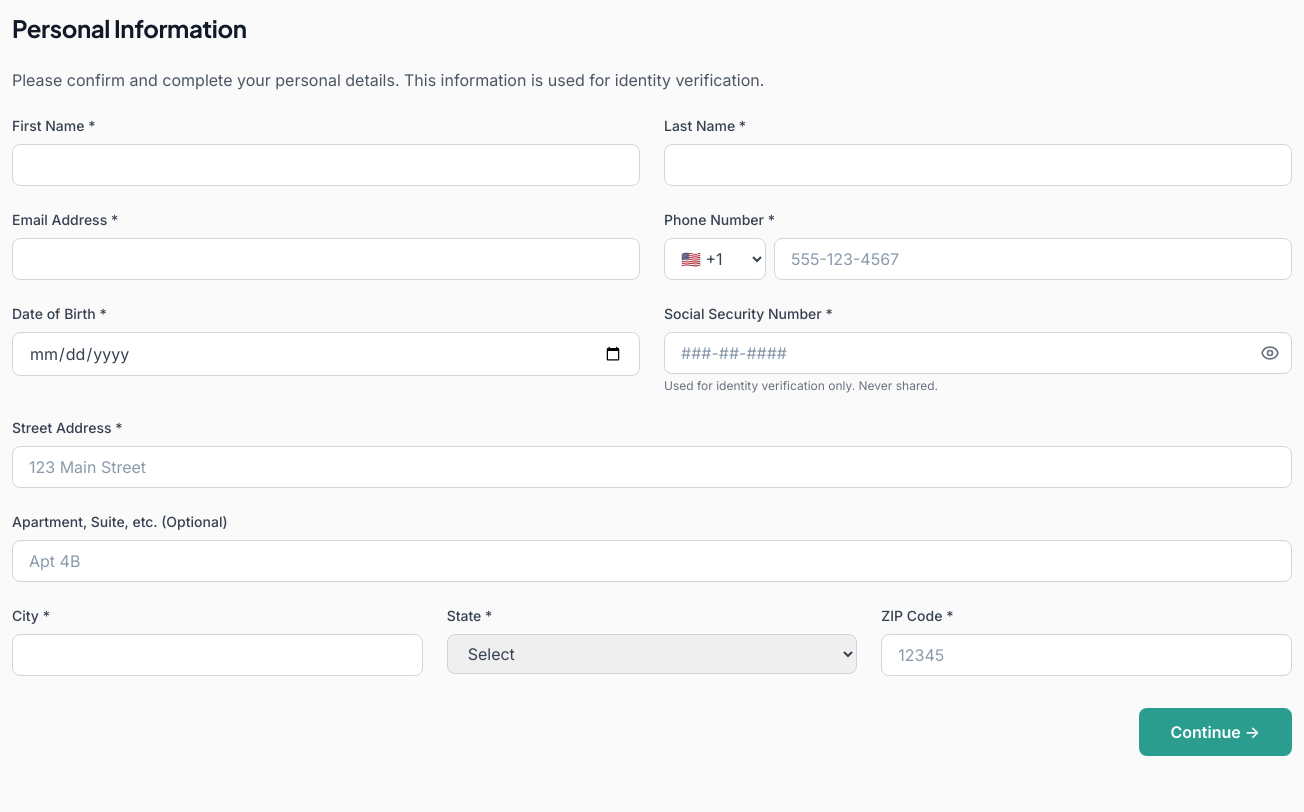
it: PersonalInfoStep › validation › shows error when required fields are empty
Submit form
Click the button "Continue →" at [1215, 732], box [1138,708,1292,756]
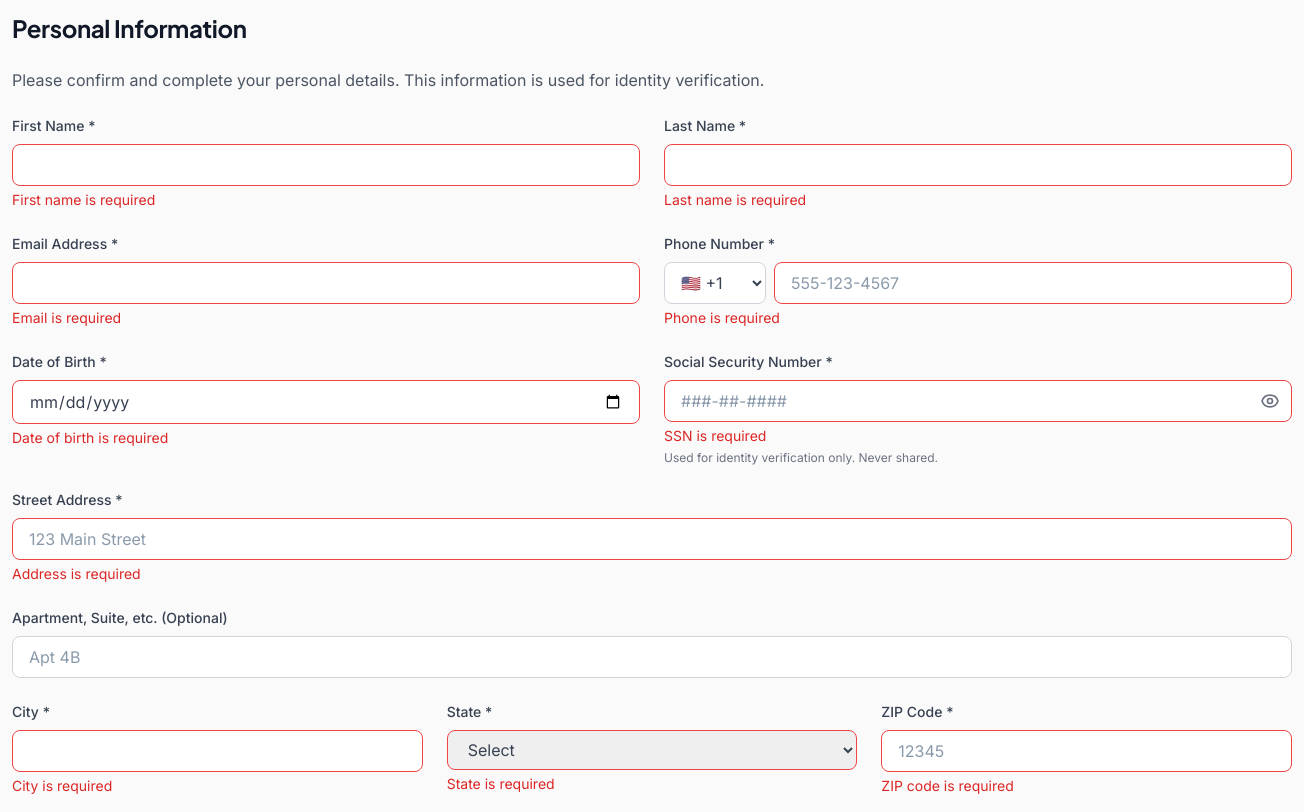
Result: the text "First name is required" is shown at [12,191,155,208]
Result: the text "Last name is required" is shown at [664,191,806,208]
Result: the text "Email is required" is shown at [12,309,121,326]
